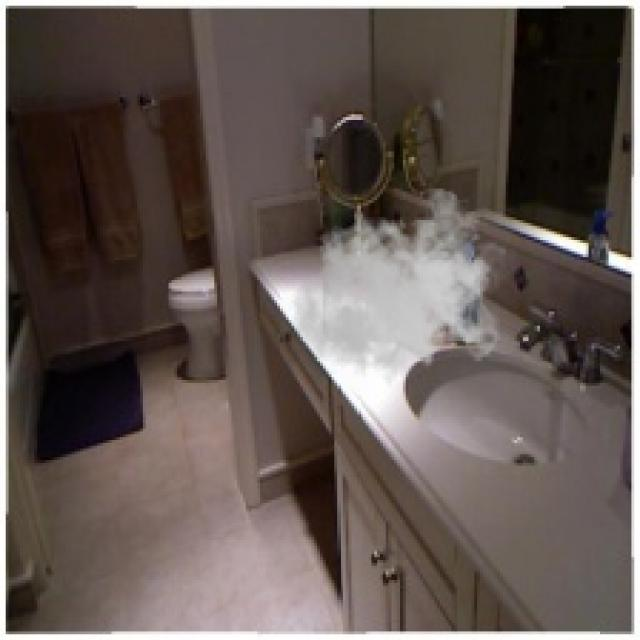smoke: (291, 189, 506, 397)
